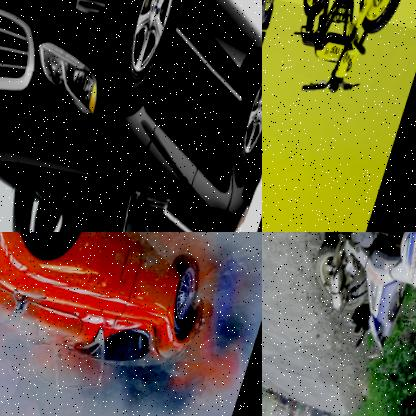bike: (287, 232, 416, 373), (276, 0, 416, 108)
car: (0, 232, 261, 416), (262, 0, 311, 200), (322, 407, 339, 416)
